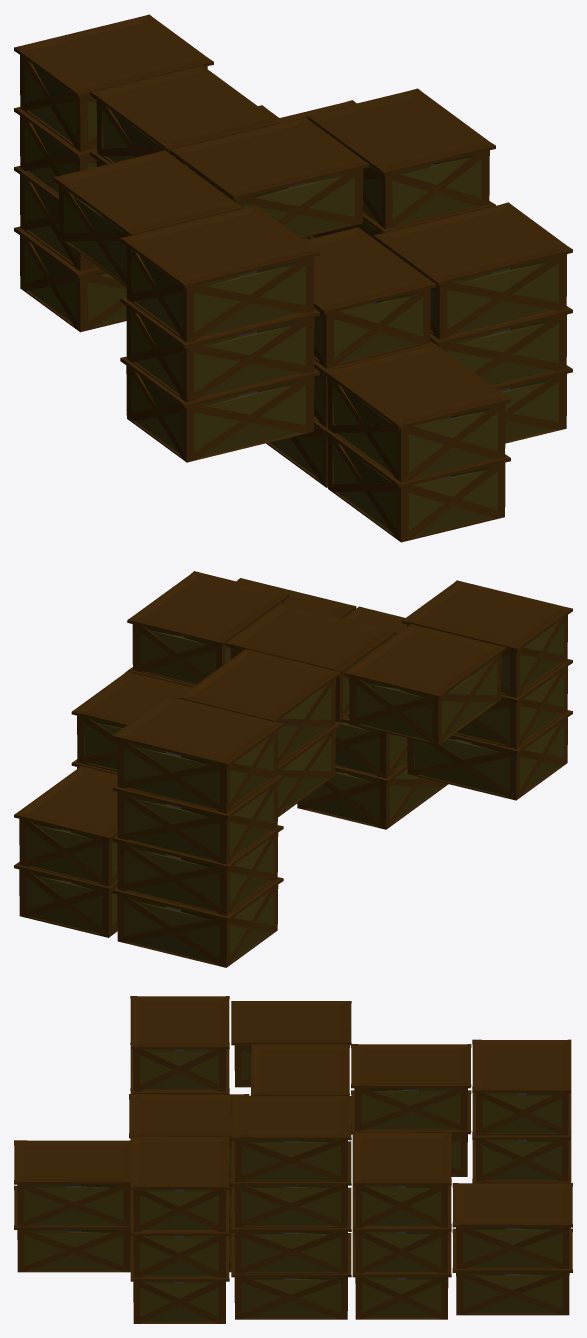
The model's file is Boooooooooxennenn wowowowowowowowow.fbx.
The picture shows the model from 3 angles, top to bottom: view 1: azimuth 30°, elevation 25°; view 2: azimuth 150°, elevation 25°; view 3: azimuth 270°, elevation 25°; orthographic projection. The views are drawn at different scales.
Visible parts, largest first — view 1: Boxen.001, Boxen.013, Boxen.007, Boxen.005, Boxen, Boxen.010, Boxen.003, Boxen.008, Boxen.006, Boxen.004, Boxen.011, Boxen.002; view 2: Boxen.001, Boxen.005, Boxen.011, Boxen.003, Boxen.008, Boxen.007, Boxen.004, Boxen.002, Boxen, Boxen.006, Boxen.010; view 3: Boxen.001, Boxen.013, Boxen.004, Boxen.003, Boxen.007, Boxen.008, Boxen, Boxen.002, Boxen.010, Boxen.005, Boxen.006, Boxen.011.
Part boxes in pixels (x1,y1,x2,y2): Boxen.001: [258, 88, 572, 443]; Boxen.013: [321, 342, 510, 542]; Boxen.007: [120, 205, 319, 342]; Boxen.005: [90, 151, 435, 487]; Boxen: [169, 117, 369, 238]; Boxen.010: [304, 227, 436, 368]; Boxen.003: [14, 14, 213, 151]; Boxen.008: [53, 150, 243, 287]; Boxen.006: [120, 297, 319, 402]; Boxen.004: [90, 65, 280, 163]; Boxen.011: [14, 166, 126, 332]; Boxen.002: [14, 107, 96, 195]; Boxen.001: [14, 571, 356, 937]; Boxen.005: [277, 710, 572, 829]; Boxen.011: [112, 825, 283, 967]; Boxen.003: [112, 695, 283, 813]; Boxen.008: [343, 624, 506, 745]; Boxen.007: [401, 580, 572, 697]; Boxen.004: [179, 648, 341, 765]; Boxen.002: [112, 774, 283, 864]; Boxen: [225, 603, 396, 720]; Boxen.006: [454, 659, 572, 748]; Boxen.010: [344, 606, 406, 718]; Boxen.001: [130, 1096, 572, 1323]; Boxen.013: [14, 1140, 130, 1272]; Boxen.004: [351, 1044, 471, 1130]; Boxen.003: [472, 1039, 571, 1135]; Boxen.007: [130, 996, 229, 1091]; Boxen.008: [231, 1001, 351, 1087]; Boxen: [250, 1044, 349, 1095]; Boxen.002: [472, 1086, 571, 1181]; Boxen.010: [129, 1094, 249, 1180]; Boxen.005: [129, 1088, 471, 1272]; Boxen.006: [130, 1042, 229, 1094]; Boxen.011: [472, 1132, 571, 1228].
Bounding box in the file's own units: 417 × 247 × 676.
